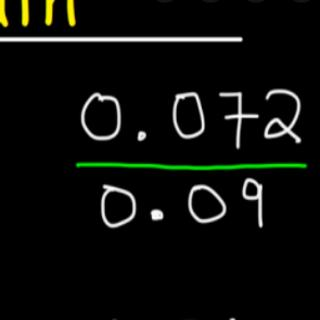.: (143, 198, 169, 227), (130, 122, 148, 146)
0: (77, 85, 125, 145), (94, 180, 144, 235), (181, 182, 232, 235), (166, 88, 214, 144)
2: (257, 84, 307, 148)
7: (214, 83, 260, 152)
9: (234, 175, 277, 239)
